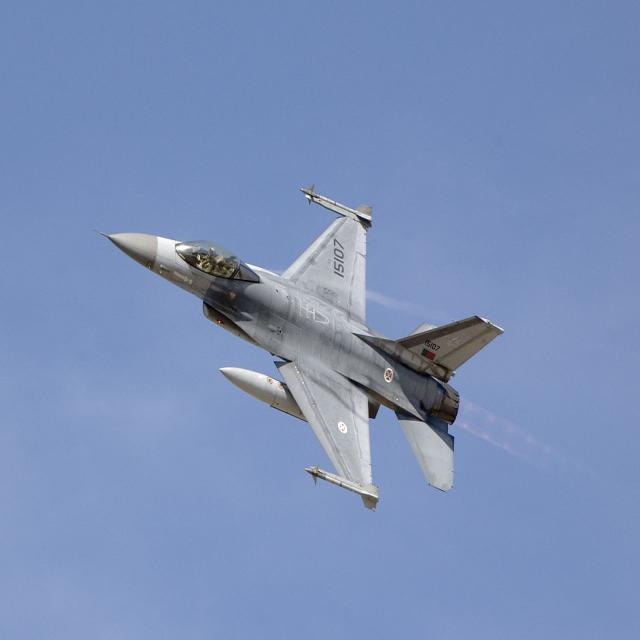MIL_Plane: (92, 183, 504, 512)
